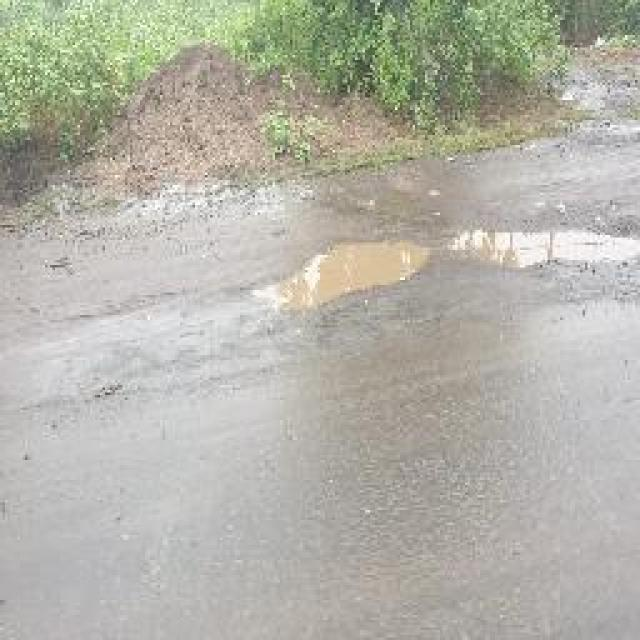puddle: (260, 237, 433, 321), (450, 226, 640, 273)
